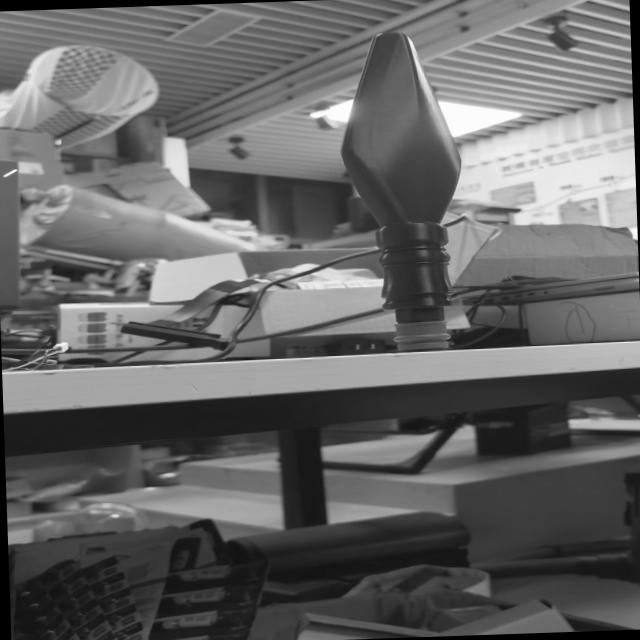base: (385, 314, 457, 356)
